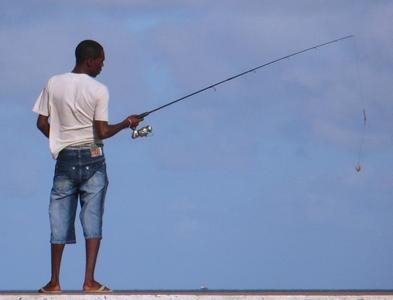person without safety: (35, 39, 120, 294)
